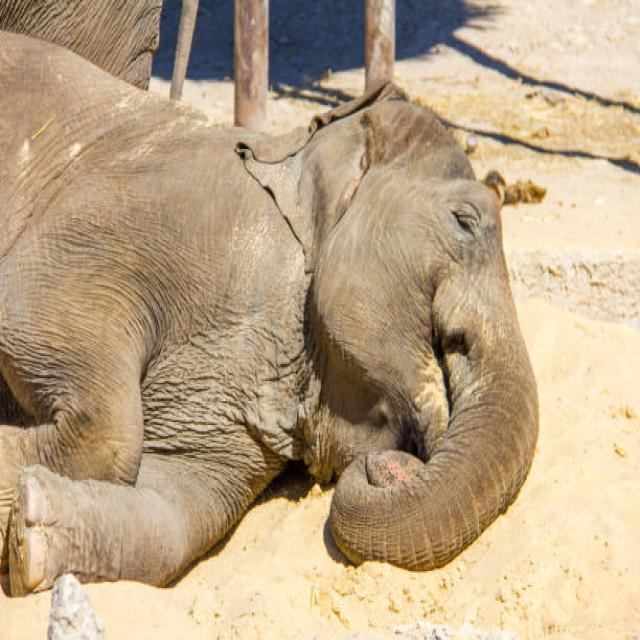Elephant: (0, 22, 541, 577)
